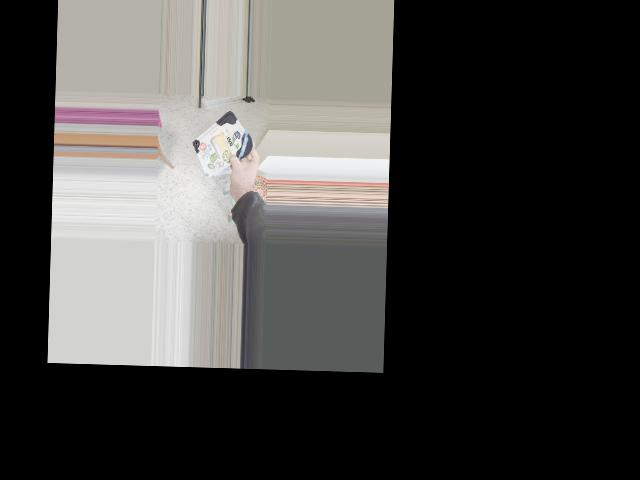cheese: (185, 111, 257, 174)
